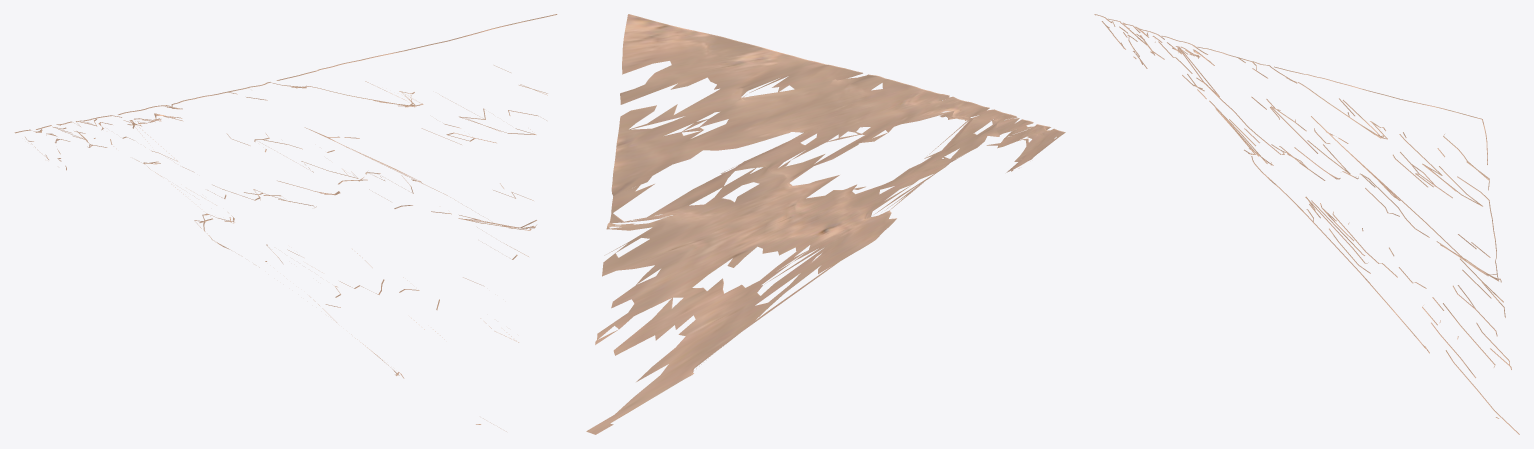
3 views of the same model, side by side, from view 1: azimuth 30°, elevation 25°; view 2: azimuth 150°, elevation 25°; view 3: azimuth 330°, elevation 25° (orthographic). The views are drawn at different scales.
Bounding box in the file's own units: 20.18 × 16.58 × 3.42.
Materials: 1 (1 with a texture image).
